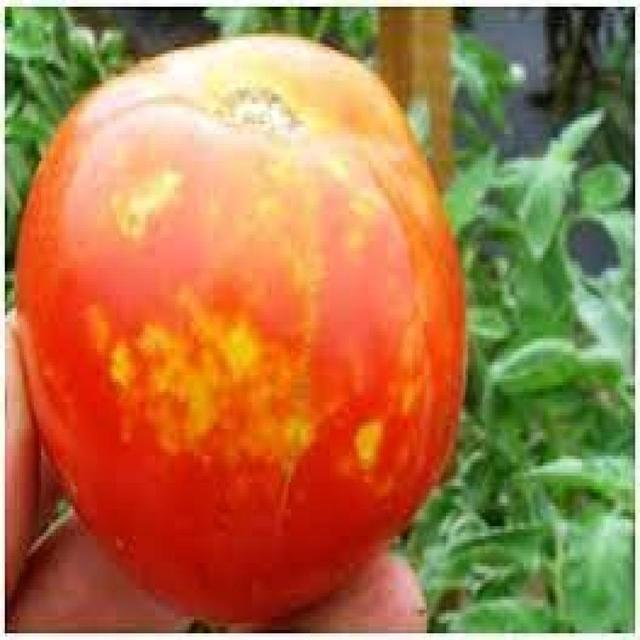Spotted wilt Virus Fruit: (11, 20, 312, 422)
